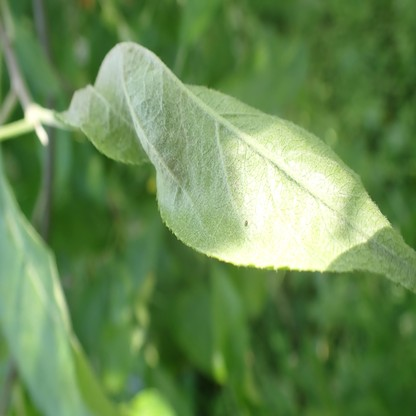powdery_mildew: (55, 40, 416, 292)
